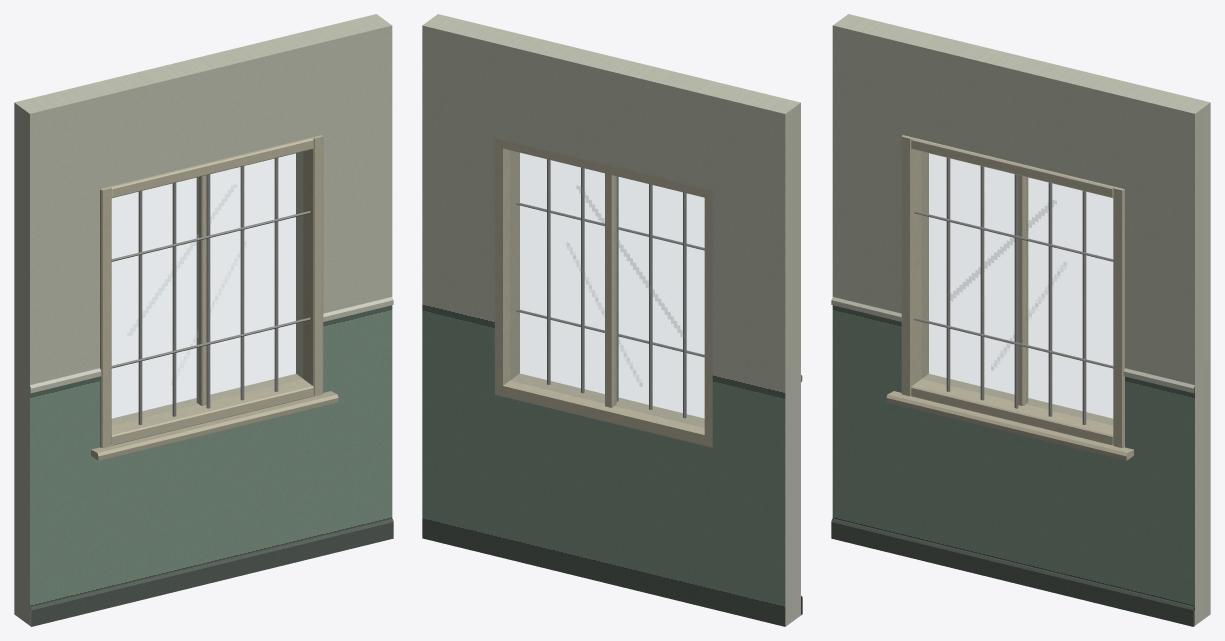
The model's file is window.glb.
3 views of the same model, side by side, from view 1: azimuth 30°, elevation 25°; view 2: azimuth 150°, elevation 25°; view 3: azimuth 330°, elevation 25° (orthographic).
Visible parts, largest first — view 1: wall_left, wall_right, window_glass, wall_under, wall_lintel, frame_right, frame_bottom, frame_left, sill, frame_top, mullion, bar_v3 (+6 smaller); view 2: wall_left, window_glass, wall_right, wall_under, wall_lintel, frame_right, frame_bottom, mullion, frame_left, frame_top, bar_v0, bar_v1 (+5 smaller); view 3: wall_right, wall_left, window_glass, wall_under, wall_lintel, frame_left, frame_bottom, frame_right, sill, frame_top, mullion, bar_v1 (+6 smaller).
Boxes of the visible parts, bbox=[...] form: wall_left: bbox=[14, 85, 103, 626]; wall_right: bbox=[304, 14, 393, 555]; window_glass: bbox=[112, 152, 302, 424]; wall_under: bbox=[102, 407, 321, 609]; wall_lintel: bbox=[87, 31, 319, 188]; frame_right: bbox=[296, 135, 323, 396]; frame_bottom: bbox=[111, 374, 313, 445]; frame_left: bbox=[100, 187, 111, 447]; sill: bbox=[91, 391, 338, 460]; frame_top: bbox=[110, 137, 313, 197]; mullion: bbox=[196, 175, 206, 405]; bar_v3: bbox=[240, 166, 244, 400]; wall_left: bbox=[712, 85, 802, 626]; window_glass: bbox=[510, 151, 703, 426]; wall_right: bbox=[422, 14, 509, 555]; wall_under: bbox=[495, 394, 712, 608]; wall_lintel: bbox=[495, 31, 727, 190]; frame_right: bbox=[492, 136, 519, 396]; frame_bottom: bbox=[503, 373, 704, 445]; mullion: bbox=[605, 173, 616, 407]; frame_left: bbox=[704, 188, 714, 447]; frame_top: bbox=[503, 140, 704, 197]; bar_v0: bbox=[683, 192, 686, 418]; bar_v1: bbox=[649, 184, 652, 409]; wall_right: bbox=[1121, 85, 1210, 626]; wall_left: bbox=[831, 14, 920, 555]; window_glass: bbox=[922, 152, 1112, 424]; wall_under: bbox=[903, 407, 1122, 609]; wall_lintel: bbox=[905, 31, 1137, 188]; frame_left: bbox=[901, 135, 928, 396]; frame_bottom: bbox=[911, 374, 1113, 445]; frame_right: bbox=[1113, 187, 1124, 447]; sill: bbox=[886, 391, 1133, 460]; frame_top: bbox=[911, 137, 1114, 197]; mullion: bbox=[1018, 175, 1028, 405]; bar_v1: bbox=[980, 166, 984, 400].
Size of the model in its own units: 2 by 2.7 by 0.2219.
2 materials, 2 textured.
